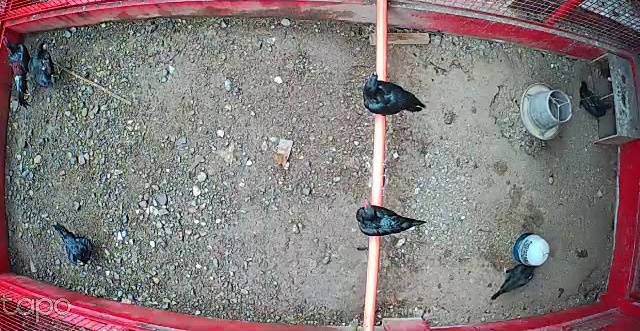Chicken: (360, 70, 428, 119), (352, 196, 430, 238), (489, 259, 546, 302), (49, 220, 99, 269), (32, 39, 67, 90), (576, 79, 615, 121)
Rooster: (1, 33, 37, 109)
